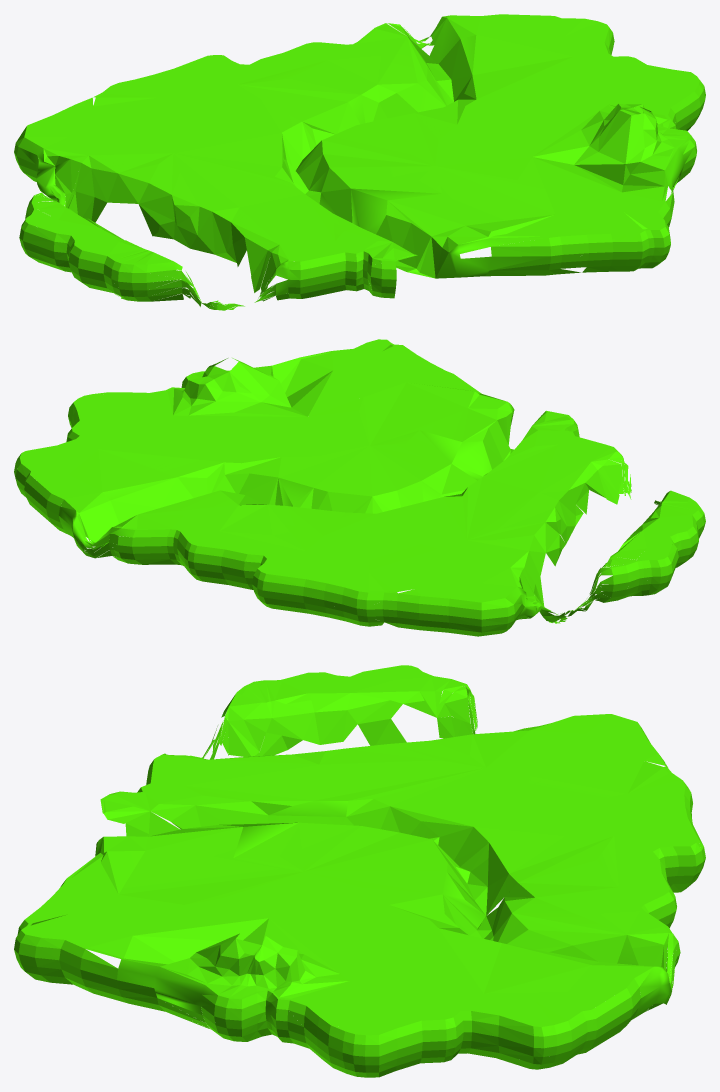
The model's file is Map-v0.1-transformed.glb.
The picture shows the model from 3 angles, top to bottom: view 1: azimuth 30°, elevation 25°; view 2: azimuth 150°, elevation 25°; view 3: azimuth 270°, elevation 25°; orthographic projection. The views are drawn at different scales.
Parts seen in each view (by area): view 1: SM_FloatingIsland_S_2_StaticMeshComponent0; view 2: SM_FloatingIsland_S_2_StaticMeshComponent0; view 3: SM_FloatingIsland_S_2_StaticMeshComponent0.
Part boxes in pixels (x1,y1,x2,y2): SM_FloatingIsland_S_2_StaticMeshComponent0: [14, 14, 705, 310]; SM_FloatingIsland_S_2_StaticMeshComponent0: [14, 339, 705, 636]; SM_FloatingIsland_S_2_StaticMeshComponent0: [14, 665, 705, 1077].
Bounding box in the file's own units: 527 × 72.24 × 410.
